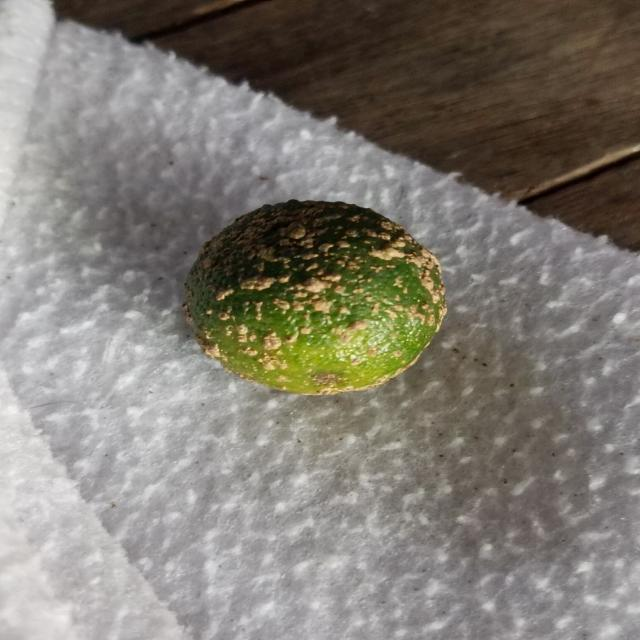scab: (182, 198, 452, 398)
